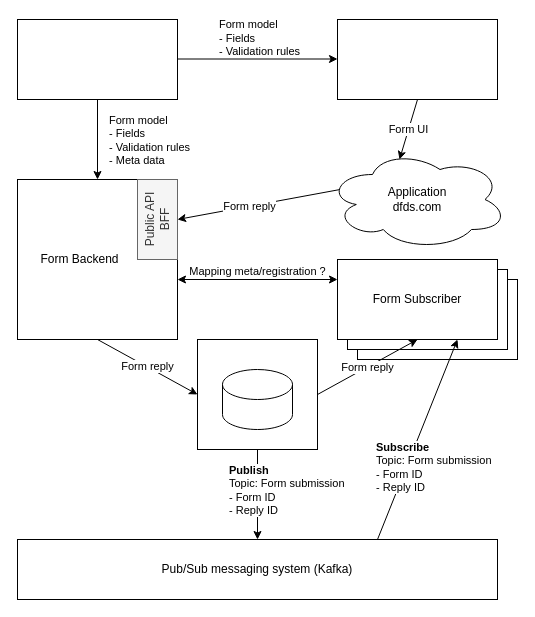
This 535x617 diagram has some shape labels left out. The shapes that lost their labels are listed below. From the top down, each one's box as (x1, y1, x2, y2) in pixels, then its label:
(16, 18, 178, 100): Form Composer
(336, 18, 498, 100): Form Renderer
(196, 338, 318, 450): Consent Store
(222, 368, 292, 430): Storage
